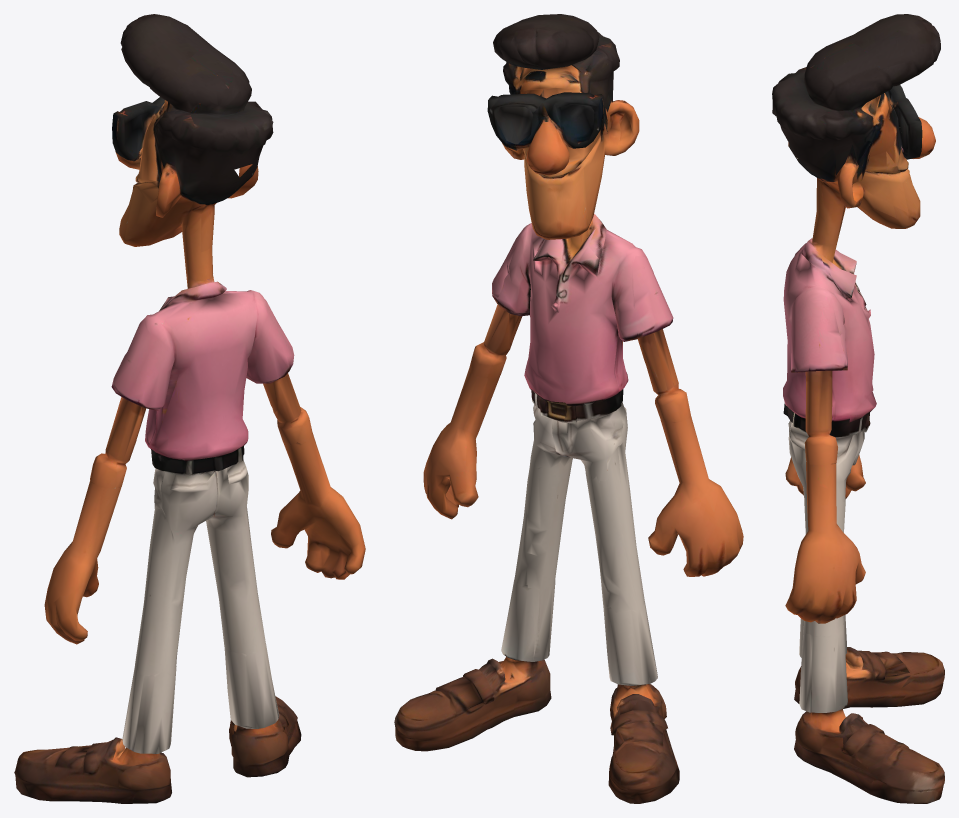
The model's file is galan.glb.
3 views of the same model, side by side, from view 1: azimuth 30°, elevation 25°; view 2: azimuth 150°, elevation 25°; view 3: azimuth 270°, elevation 25° (orthographic). The views are drawn at different scales.
Parts seen in each view (by area): view 1: Torso, Cabeza, PantorrillaIzquierda, AntebrazoDerecho, PantorrillaDerecha, PiernaIzquierda, AntebrazoIzquierdo, PiernaDerecha, BrazoIzquierdo, BrazoDerecho; view 2: Torso, Cabeza, PantorrillaDerecha, PantorrillaIzquierda, AntebrazoIzquierdo, PiernaIzquierda, AntebrazoDerecho, PiernaDerecha, BrazoIzquierdo, BrazoDerecho; view 3: Cabeza, Torso, PantorrillaDerecha, AntebrazoDerecho, PantorrillaIzquierda, BrazoDerecho, PiernaDerecha, AntebrazoIzquierdo.
Part boxes in pixels (<box>): Torso: <box>137,275,289,544</box>; Cabeza: <box>112,14,273,280</box>; PantorrillaIzquierda: <box>14,666,176,803</box>; AntebrazoDerecho: <box>271,432,365,579</box>; PantorrillaDerecha: <box>224,644,301,777</box>; PiernaIzquierda: <box>134,506,193,675</box>; AntebrazoIzquierdo: <box>44,480,121,644</box>; PiernaDerecha: <box>206,507,265,655</box>; BrazoIzquierdo: <box>90,319,150,488</box>; BrazoDerecho: <box>265,299,312,445</box>; Torso: <box>497,214,653,482</box>; Cabeza: <box>487,14,639,239</box>; PantorrillaDerecha: <box>394,580,555,751</box>; PantorrillaIzquierda: <box>603,603,679,803</box>; AntebrazoIzquierdo: <box>648,415,743,576</box>; PiernaIzquierda: <box>585,440,644,612</box>; AntebrazoDerecho: <box>423,367,499,519</box>; PiernaDerecha: <box>514,439,572,589</box>; BrazoIzquierdo: <box>632,255,690,423</box>; BrazoDerecho: <box>469,227,524,379</box>; Cabeza: <box>772,14,940,244</box>; Torso: <box>783,238,876,502</box>; PantorrillaDerecha: <box>794,627,944,803</box>; AntebrazoDerecho: <box>785,462,865,623</box>; PantorrillaIzquierda: <box>794,615,944,708</box>; BrazoDerecho: <box>794,295,845,465</box>; PiernaDerecha: <box>803,483,845,637</box>; AntebrazoIzquierdo: <box>785,455,865,498</box>.
Size of the model in its own units: 0.8013 by 1.84 by 0.3986.
Materials: 1 (1 with a texture image).
